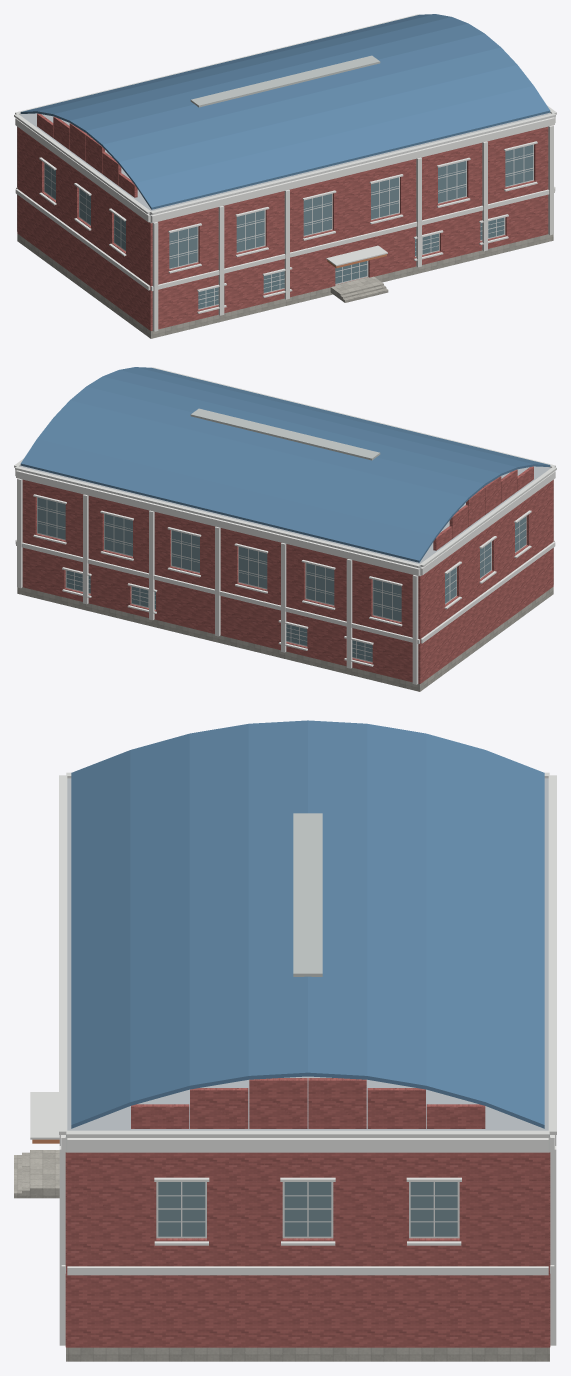
3 views of the same model, one above another, from view 1: azimuth 30°, elevation 25°; view 2: azimuth 150°, elevation 25°; view 3: azimuth 270°, elevation 25° (orthographic). The views are drawn at different scales.
Visible parts, largest first — view 1: gym__archroof, gym__redbrick, gym__band, gym__clerestoryglass, gym__cap, gym__stone, gym__frame, gym__sill, gym__glass, gym__steel, gym__metalroof, gym__stair-front (+1 smaller); view 2: gym__archroof, gym__redbrick, gym__band, gym__clerestoryglass, gym__stone, gym__cap, gym__frame, gym__sill, gym__steel, gym__glass, gym__metalroof; view 3: gym__archroof, gym__redbrick, gym__band, gym__cap, gym__clerestoryglass, gym__metalroof, gym__stone, gym__steel, gym__frame, gym__sill, gym__stair-front, gym__threshold-front (+1 smaller).
Boxes of the visible parts, x1,y1,x2,y2 form: gym__archroof: (20, 14, 550, 209); gym__redbrick: (17, 113, 548, 330); gym__band: (15, 117, 555, 331); gym__clerestoryglass: (44, 144, 533, 268); gym__cap: (14, 14, 556, 266); gym__stone: (17, 234, 553, 338); gym__frame: (44, 144, 533, 309); gym__sill: (39, 141, 537, 313); gym__glass: (198, 217, 504, 308); gym__steel: (190, 55, 380, 107); gym__metalroof: (20, 112, 550, 214); gym__stair-front: (338, 282, 388, 302); gym__archroof: (20, 367, 550, 562); gym__redbrick: (22, 466, 553, 683); gym__band: (15, 470, 555, 684); gym__clerestoryglass: (37, 497, 526, 621); gym__stone: (17, 587, 553, 691); gym__cap: (14, 367, 556, 567); gym__frame: (37, 497, 526, 662); gym__sill: (33, 494, 531, 666); gym__steel: (190, 408, 380, 460); gym__glass: (66, 570, 372, 661); gym__metalroof: (20, 465, 550, 567); gym__archroof: (71, 720, 544, 1128); gym__redbrick: (65, 1078, 550, 1347); gym__band: (59, 1135, 556, 1345); gym__cap: (30, 772, 556, 1139); gym__clerestoryglass: (158, 1182, 457, 1236); gym__metalroof: (66, 778, 549, 1136); gym__stone: (66, 1347, 549, 1361); gym__steel: (293, 813, 322, 976); gym__frame: (156, 1182, 459, 1238); gym__sill: (61, 1135, 554, 1245); gym__stair-front: (14, 1150, 37, 1198); gym__threshold-front: (38, 1150, 59, 1198).
Bounding box in the file's own units: 40.66 × 15.21 × 25.8.
14 materials, 2 textured.
